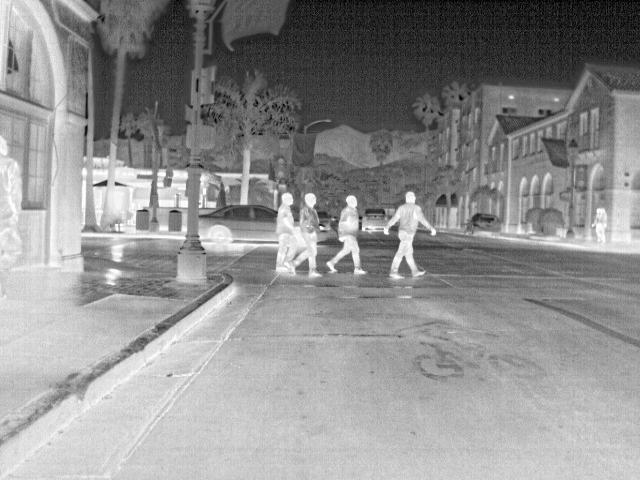car: (198, 204, 278, 246), (358, 207, 390, 235), (467, 214, 503, 235)
person: (381, 190, 439, 280), (2, 132, 29, 273), (325, 194, 368, 274), (287, 192, 324, 278), (272, 192, 301, 272), (592, 207, 605, 245)
